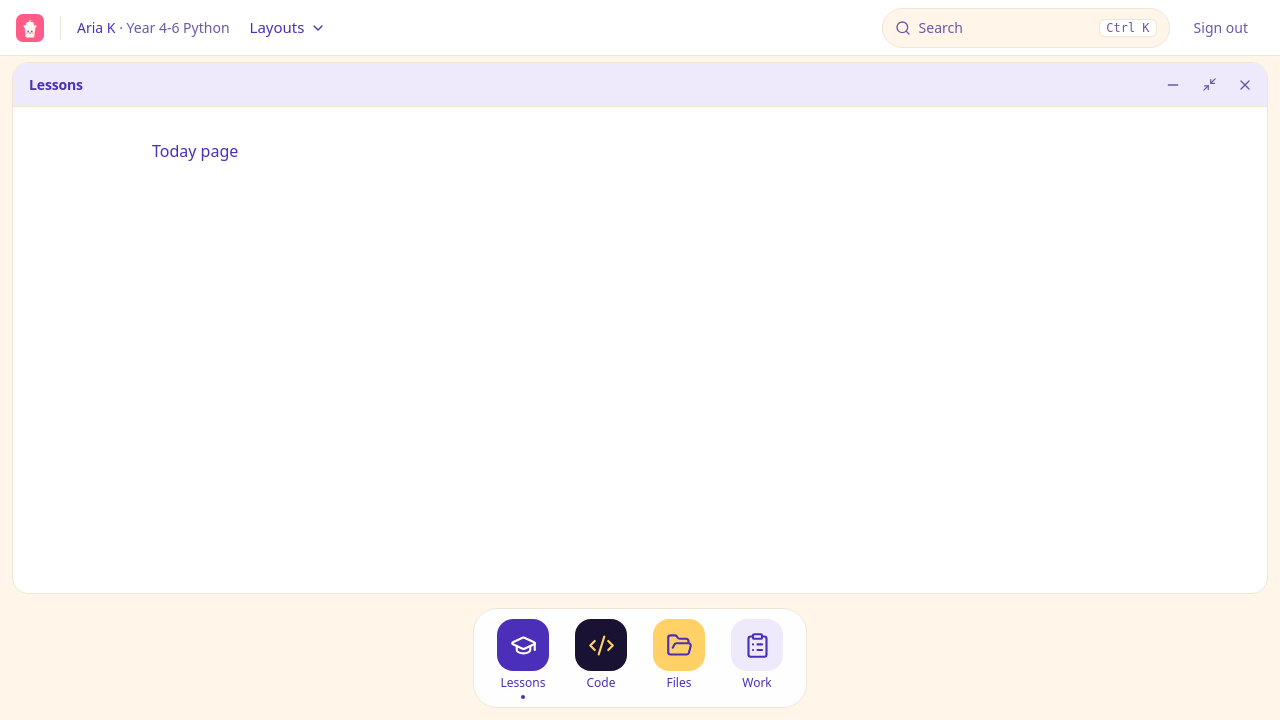
Test: a child’s windows are not arranged or saved, but switch to a window and back
This screenshot has width=1280, height=720.
Check: the text "Today page" is shown, box [152,140,238,162]
Check: the button with aria-label "Open Lessons" is shown, box [486,617,560,701]
Step 1. Click the button named "Make it a window" → point(1209, 84), box [1193,68,1225,100]
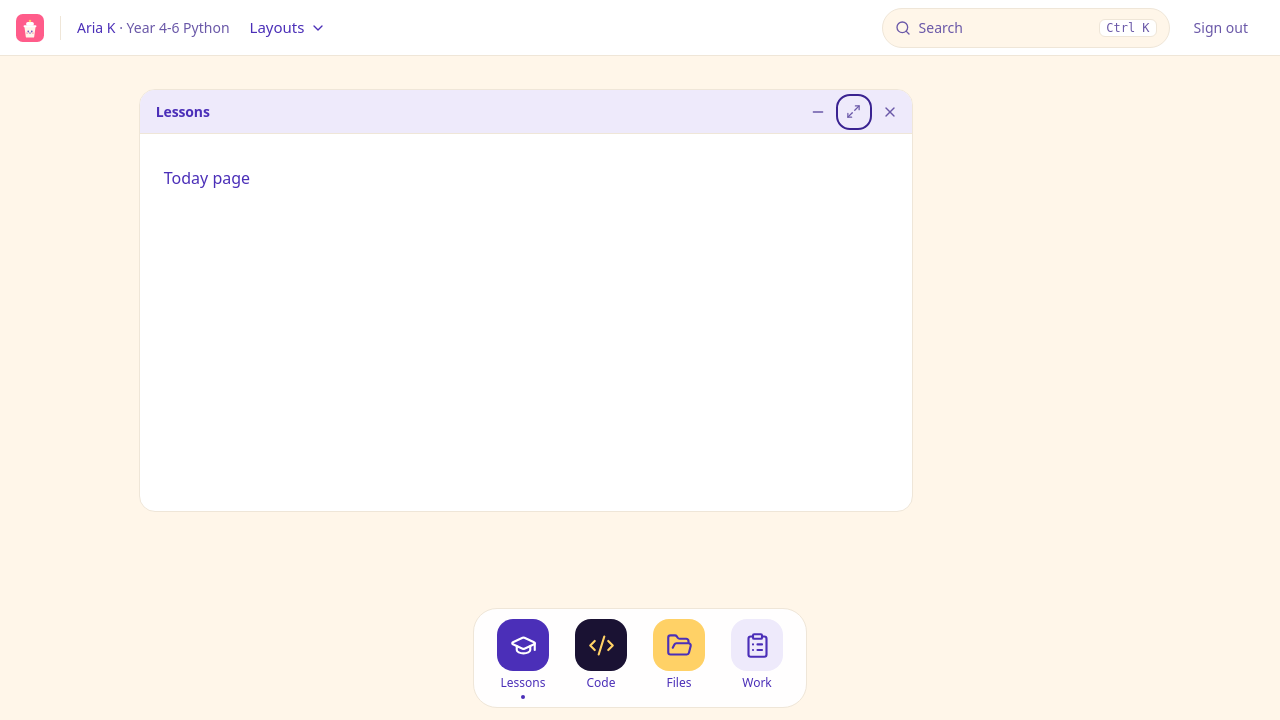
Step 2. Click the button named "Full screen" → point(854, 112), box [838,96,870,128]
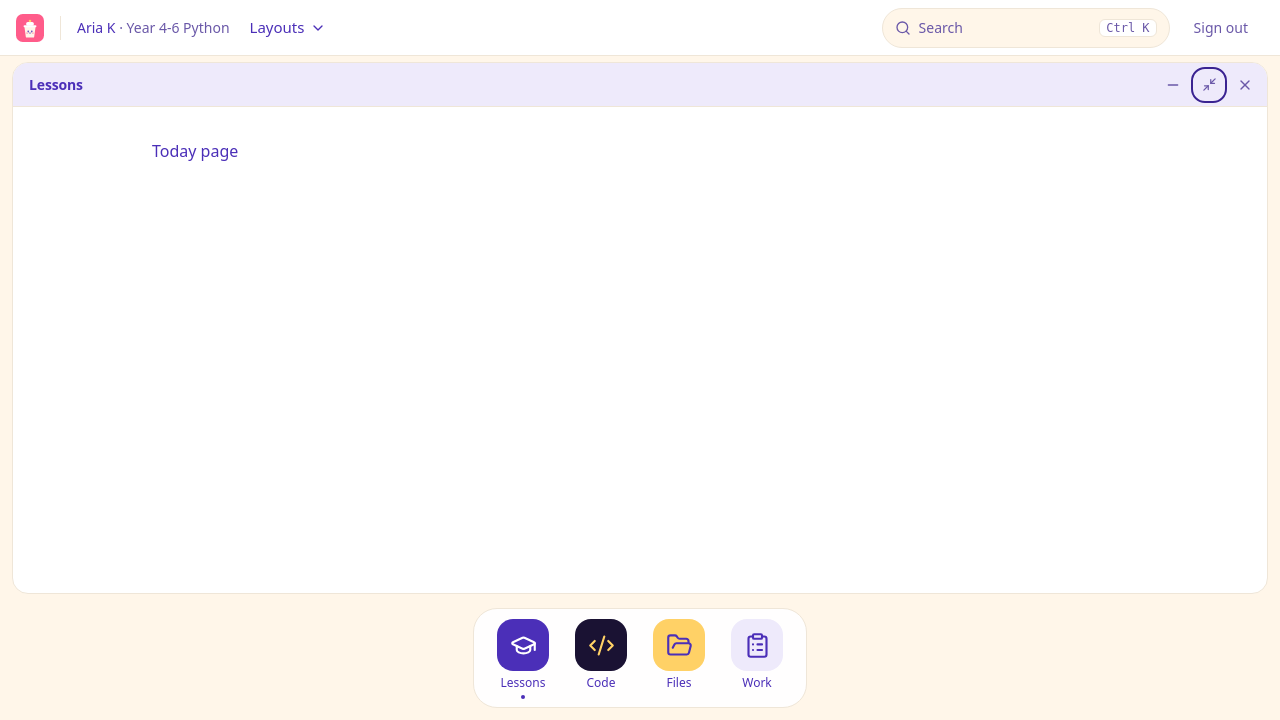
Check: the button named "Make it a window" is shown, box [1193,68,1225,100]
